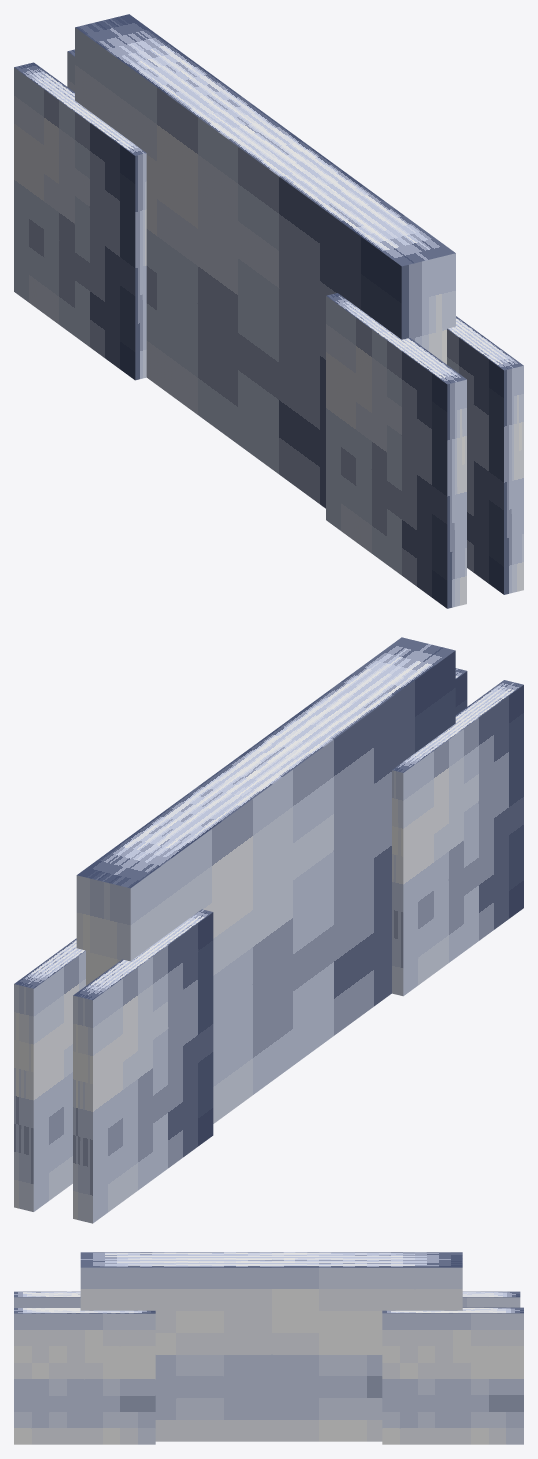
File: SubWorld3Cover.obj
3 views of the same model, one above another, from view 1: azimuth 30°, elevation 25°; view 2: azimuth 150°, elevation 25°; view 3: azimuth 270°, elevation 25° (orthographic). The views are drawn at different scales.
Visible parts, largest first — view 1: SubWorld3Cover; view 2: SubWorld3Cover; view 3: SubWorld3Cover.
Part boxes in pixels (<box>): SubWorld3Cover: <box>14,14,523,608</box>; SubWorld3Cover: <box>14,637,523,1223</box>; SubWorld3Cover: <box>14,1252,523,1444</box>.
Size of the model in its own units: 3.73 by 13.83 by 36.73.
